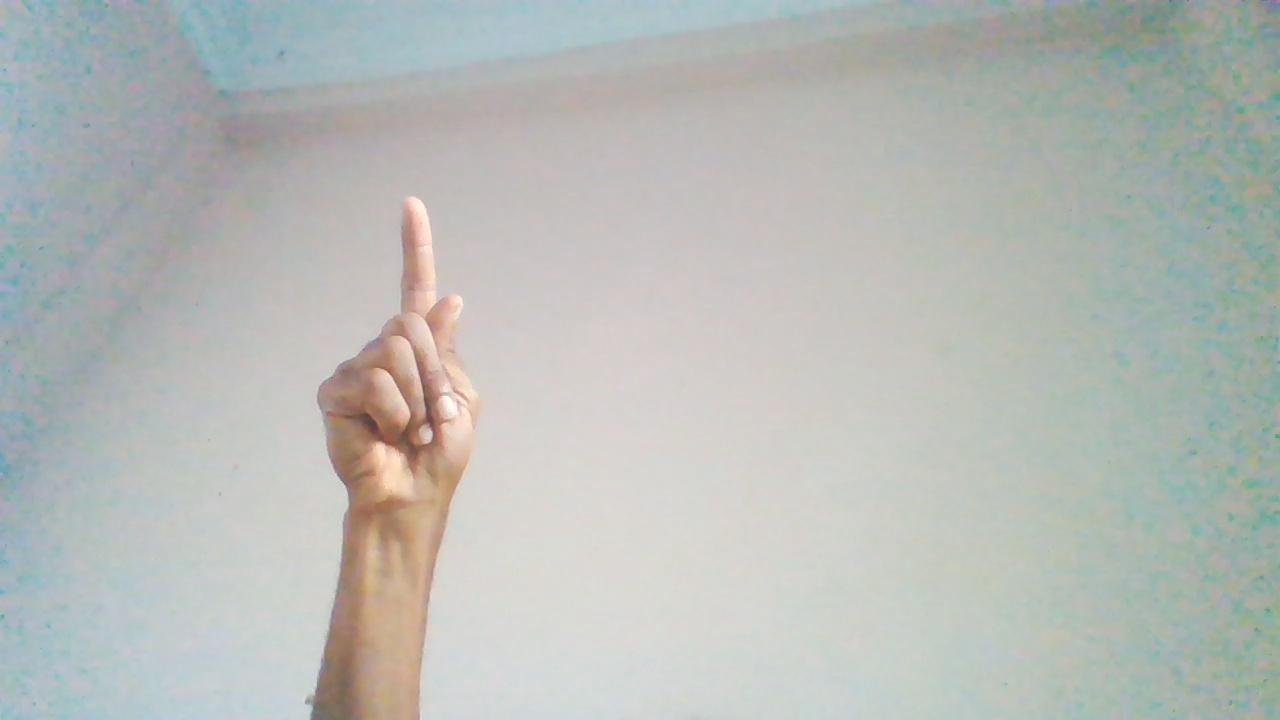ne: (312, 199, 482, 568)
